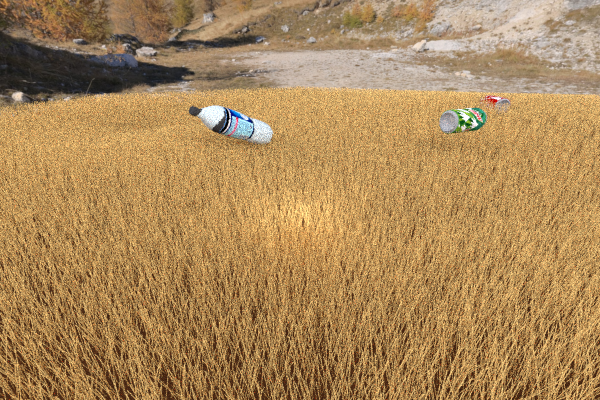Plastic Bottle: (188, 105, 273, 145), (439, 107, 487, 133), (478, 95, 510, 115)
